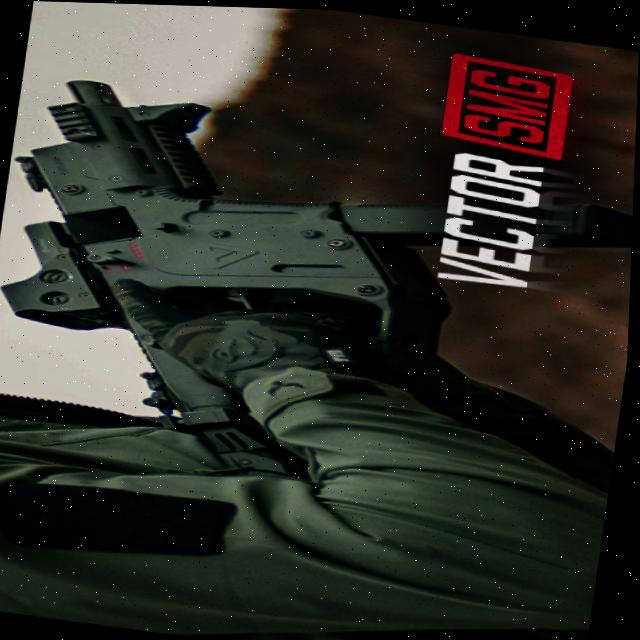firearm: (0, 71, 638, 516)
